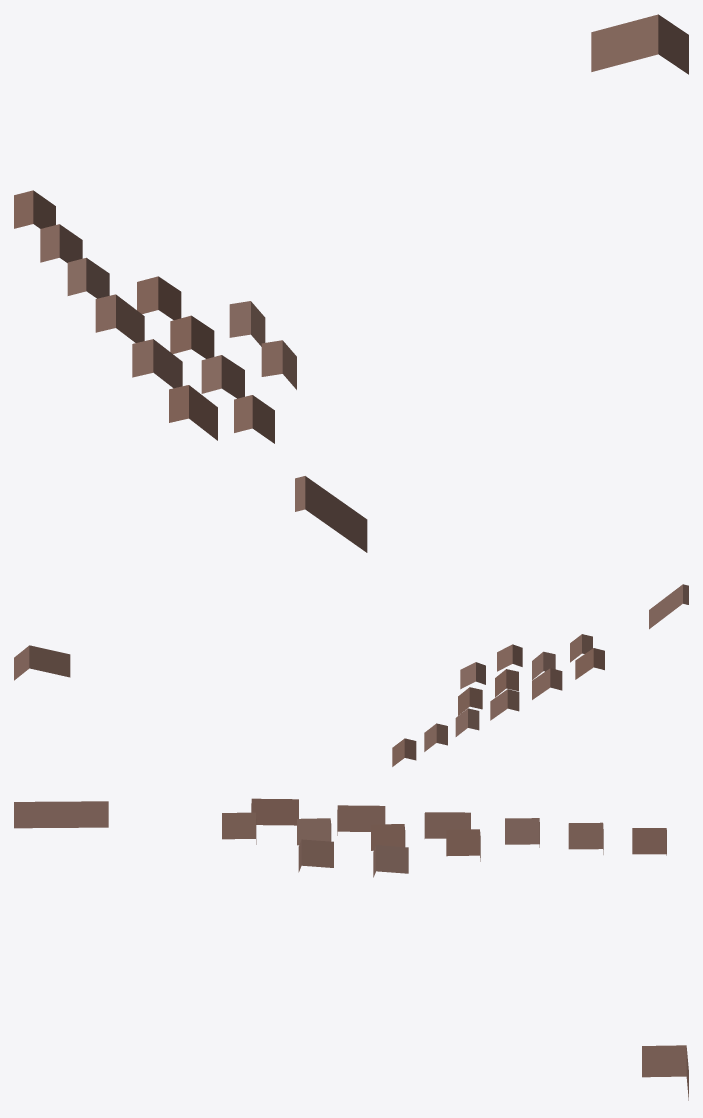
The model's file is c_1632_17828_buildings_residential.glb.
3 renders of one model, top to bottom at view 1: azimuth 30°, elevation 25°; view 2: azimuth 150°, elevation 25°; view 3: azimuth 270°, elevation 25°, orthographic. The views are drawn at different scales.
Parts seen in each view (by area): view 1: geometry_0; view 2: geometry_0; view 3: geometry_0.
Boxes of the visible parts, <box> form: geometry_0: <box>14,14,688,552</box>; geometry_0: <box>14,584,688,766</box>; geometry_0: <box>14,798,688,1100</box>.
Size of the model in its own units: 185 by 11.14 by 186.
